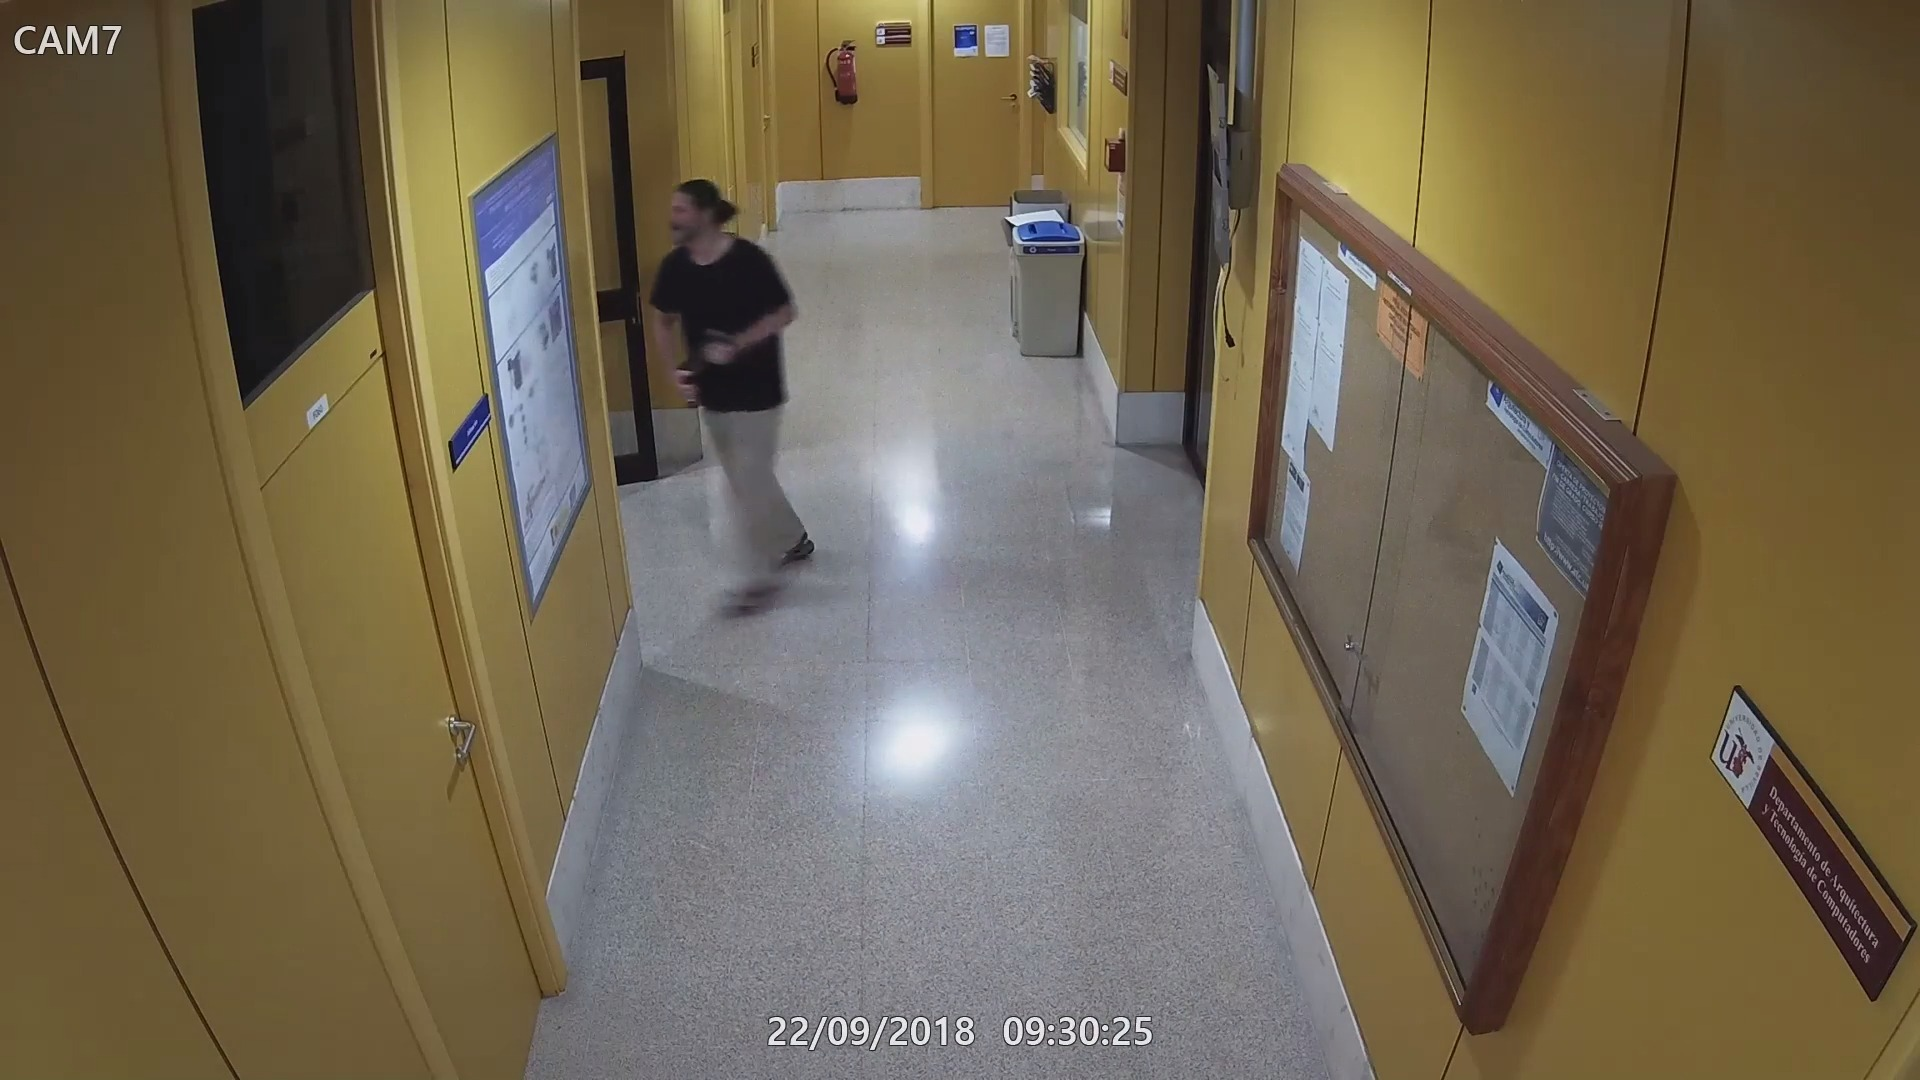Short_rifle: (676, 322, 735, 384)
